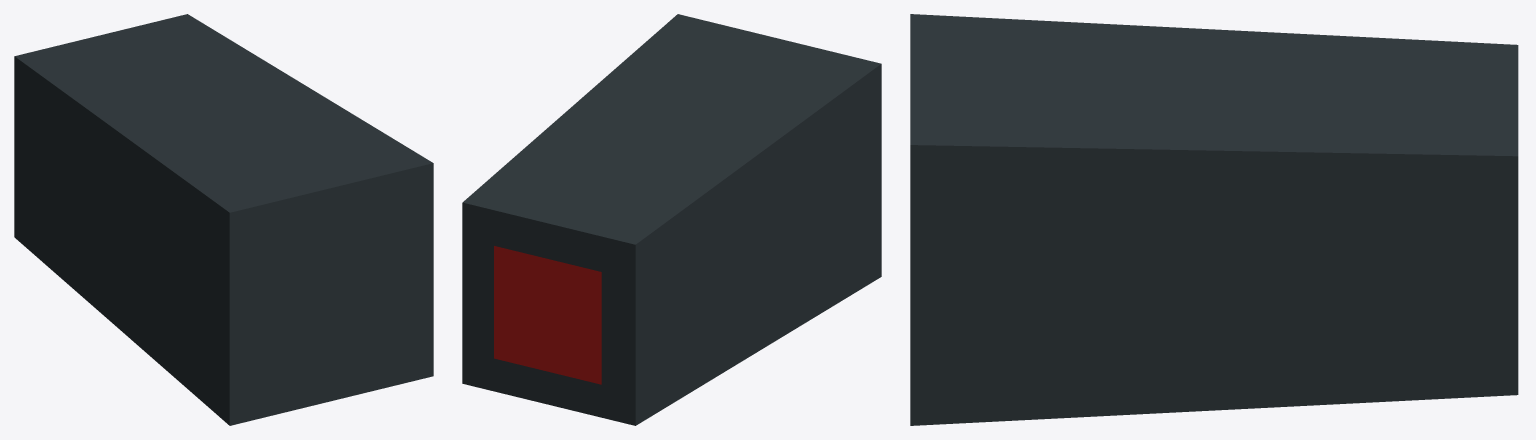
3 views of the same model, side by side, from view 1: azimuth 30°, elevation 25°; view 2: azimuth 150°, elevation 25°; view 3: azimuth 270°, elevation 25° (orthographic). The views are drawn at different scales.
Parts seen in each view (by area): view 1: mount; view 2: mount; view 3: mount.
Boxes of the visible parts, x1,y1,x2,y2 form: mount: (14,14,433,425); mount: (462,14,881,425); mount: (910,14,1518,425).
Bounding box in the file's own units: 2.65 × 2.65 × 5.23.
